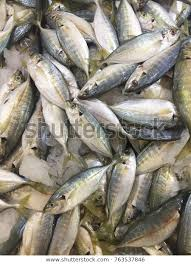Ikan Selar: (38, 161, 128, 217), (95, 22, 180, 70), (27, 53, 80, 118)
